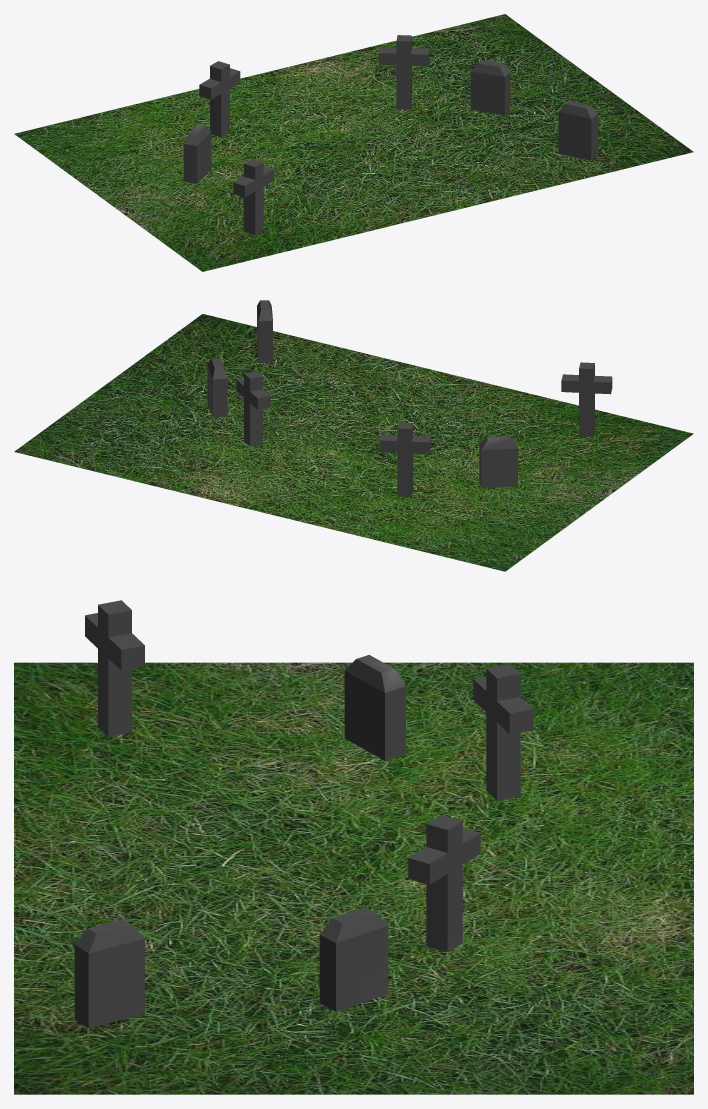
Rendered from grass.glb.
3 views of the same model, one above another, from view 1: azimuth 30°, elevation 25°; view 2: azimuth 150°, elevation 25°; view 3: azimuth 270°, elevation 25° (orthographic). The views are drawn at different scales.
Visible parts, largest first — view 1: green-bermuda-grass-texture, Cube.002, Cube, Cube.004, Cube.005, Cube.003, Cube.001; view 2: green-bermuda-grass-texture, Cube.001, Cube.003, Cube.004, Cube.005, Cube, Cube.002; view 3: green-bermuda-grass-texture, Cube.002, Cube, Cube.005, Cube.001, Cube.003, Cube.004.
Boxes of the visible parts, x1=… form: green-bermuda-grass-texture: x1=14, y1=14, x2=693, y2=271; Cube.002: x1=558, y1=100, x2=598, y2=160; Cube: x1=470, y1=60, x2=510, y2=115; Cube.004: x1=233, y1=159, x2=273, y2=234; Cube.005: x1=379, y1=35, x2=429, y2=109; Cube.003: x1=199, y1=61, x2=240, y2=137; Cube.001: x1=183, y1=124, x2=211, y2=183; green-bermuda-grass-texture: x1=14, y1=314, x2=693, y2=571; Cube.001: x1=479, y1=435, x2=517, y2=487; Cube.003: x1=379, y1=422, x2=430, y2=496; Cube.004: x1=561, y1=362, x2=612, y2=436; Cube.005: x1=236, y1=371, x2=270, y2=446; Cube: x1=207, y1=358, x2=227, y2=417; Cube.002: x1=257, y1=300, x2=272, y2=362; green-bermuda-grass-texture: x1=14, y1=662, x2=693, y2=1094; Cube.002: x1=74, y1=919, x2=144, y2=1028; Cube: x1=319, y1=907, x2=388, y2=1011; Cube.005: x1=408, y1=815, x2=480, y2=952; Cube.001: x1=344, y1=655, x2=405, y2=760; Cube.003: x1=473, y1=664, x2=533, y2=800; Cube.004: x1=85, y1=600, x2=144, y2=736.
Bounding box in the file's own units: 12.13 × 1.78 × 8.07.
Materials: 1 (1 with a texture image).
